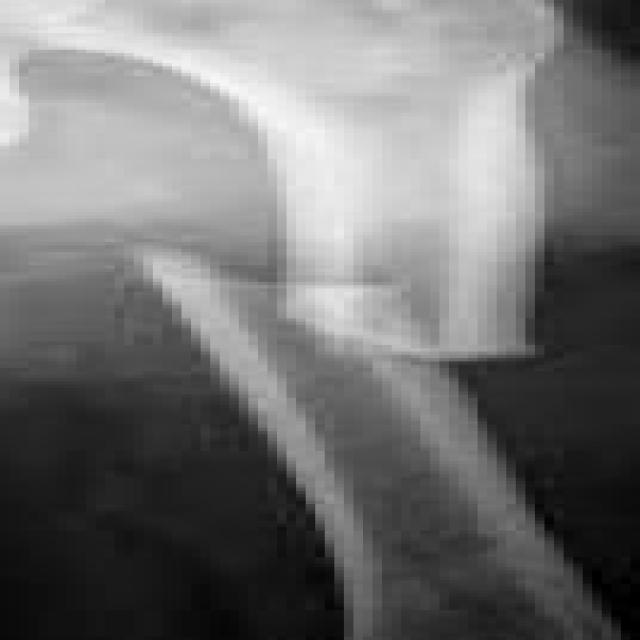Broken: (110, 244, 615, 635), (254, 100, 542, 367)
